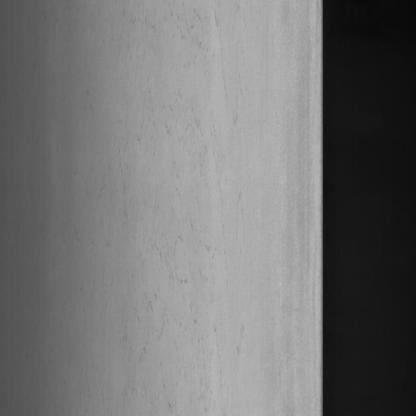silk_spot: (138, 0, 249, 323)
